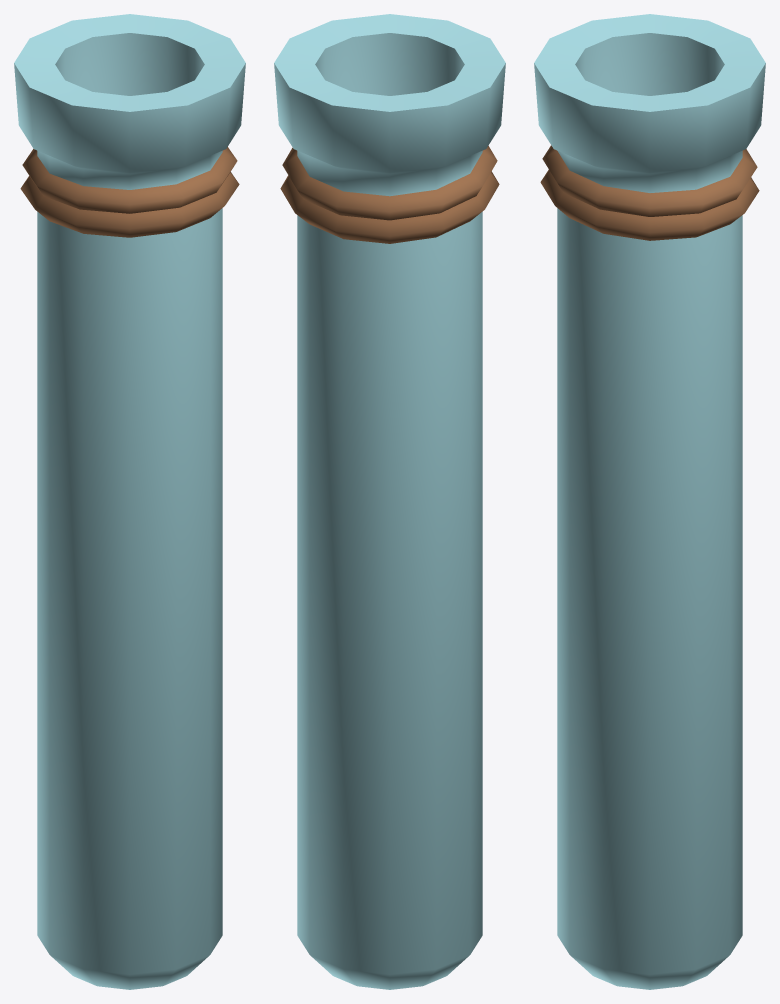
The model's file is PotionBottleEmpty7.fbx.
3 views of the same model, side by side, from view 1: azimuth 30°, elevation 25°; view 2: azimuth 150°, elevation 25°; view 3: azimuth 270°, elevation 25° (orthographic).
Visible parts, largest first — view 1: PotionBottleEmpty7; view 2: PotionBottleEmpty7; view 3: PotionBottleEmpty7.
Part boxes in pixels (x1=…): PotionBottleEmpty7: x1=14, y1=14, x2=245, y2=989; PotionBottleEmpty7: x1=274, y1=14, x2=505, y2=989; PotionBottleEmpty7: x1=534, y1=14, x2=765, y2=989.
Bounding box in the file's own units: 4.21 × 18.03 × 4.21.
